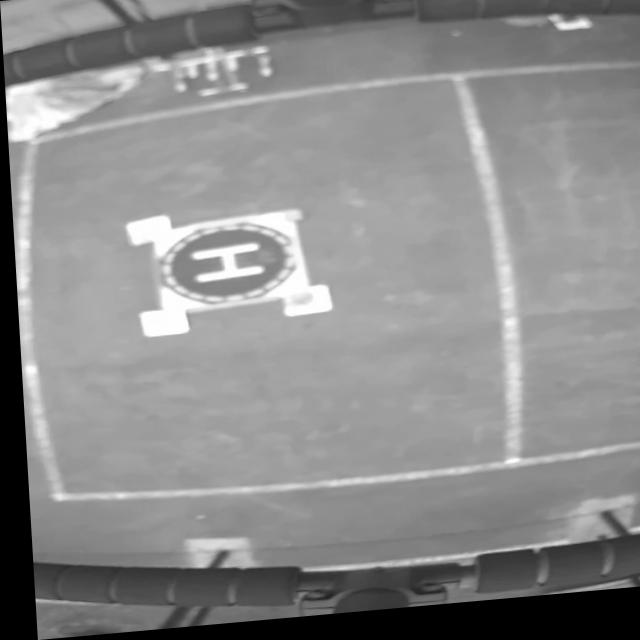Helipad: (186, 245, 263, 286)
